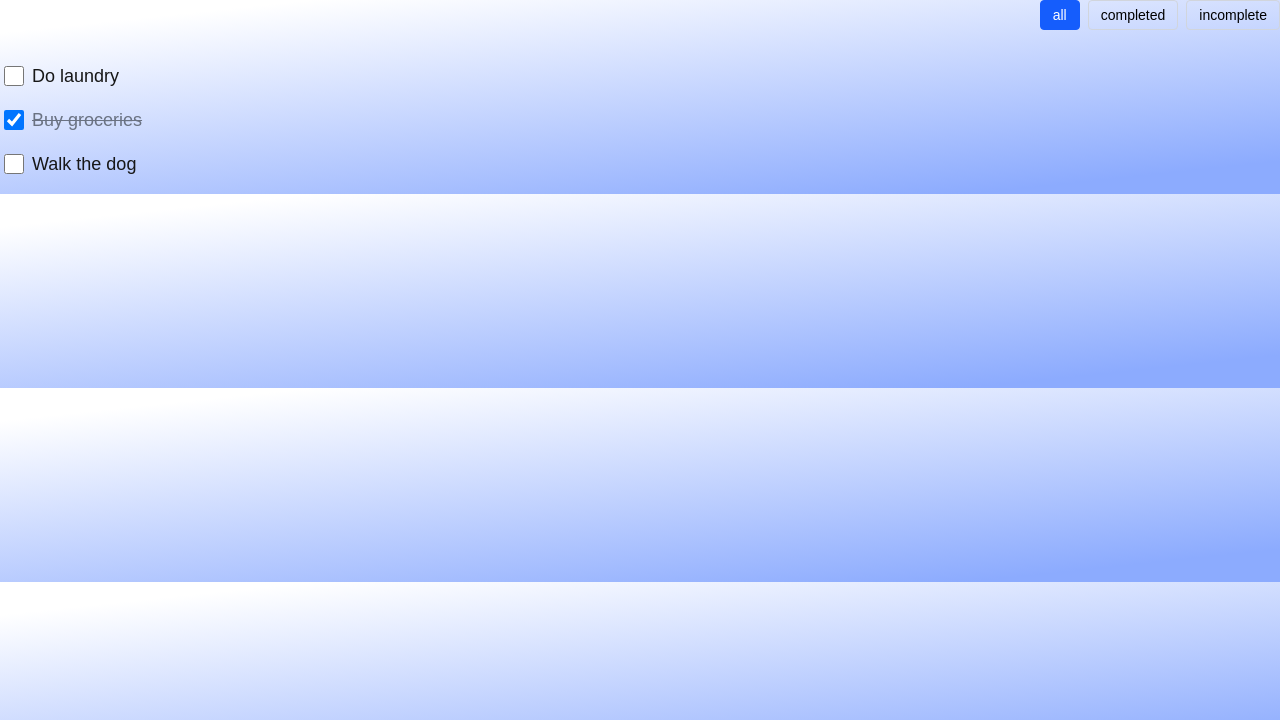
TodoList component › filters completed todos
Click the button "completed": [1133, 15] box [1088, 0, 1178, 30]
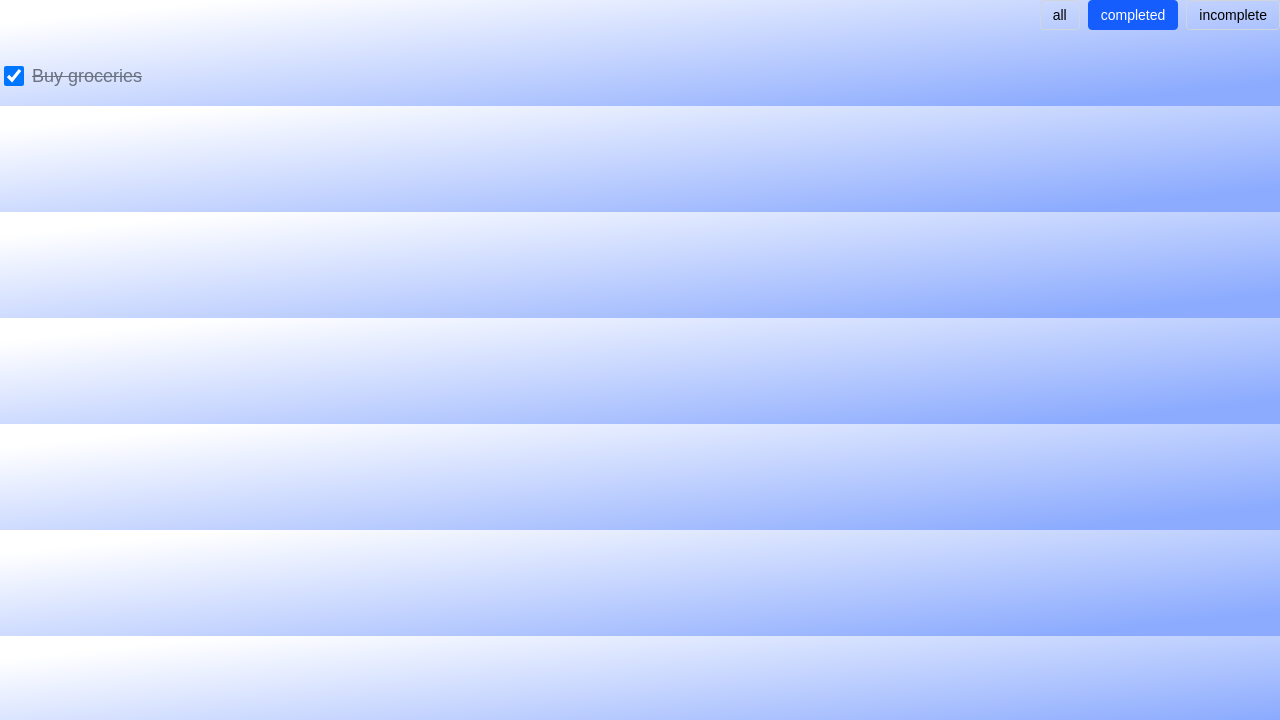
Check: the text "Buy groceries" is shown, box [32, 62, 142, 90]
Check: the text "Do laundry" is gone
Check: the text "Walk the dog" is gone
